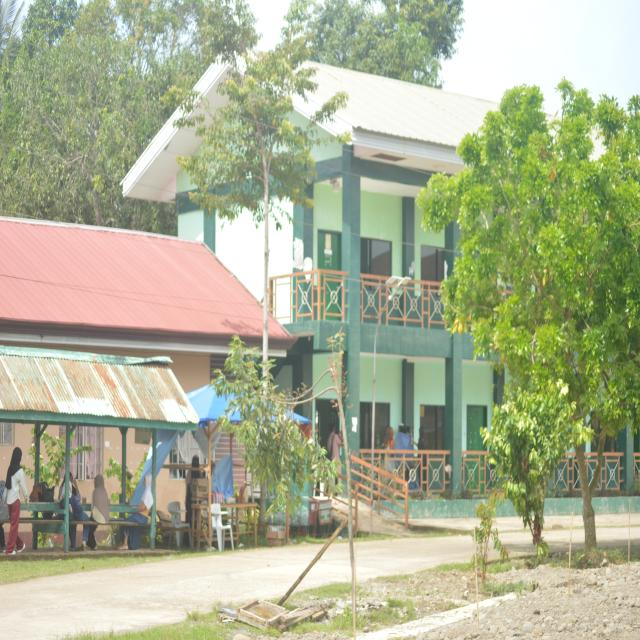person: (3, 448, 28, 555), (126, 473, 153, 524)
